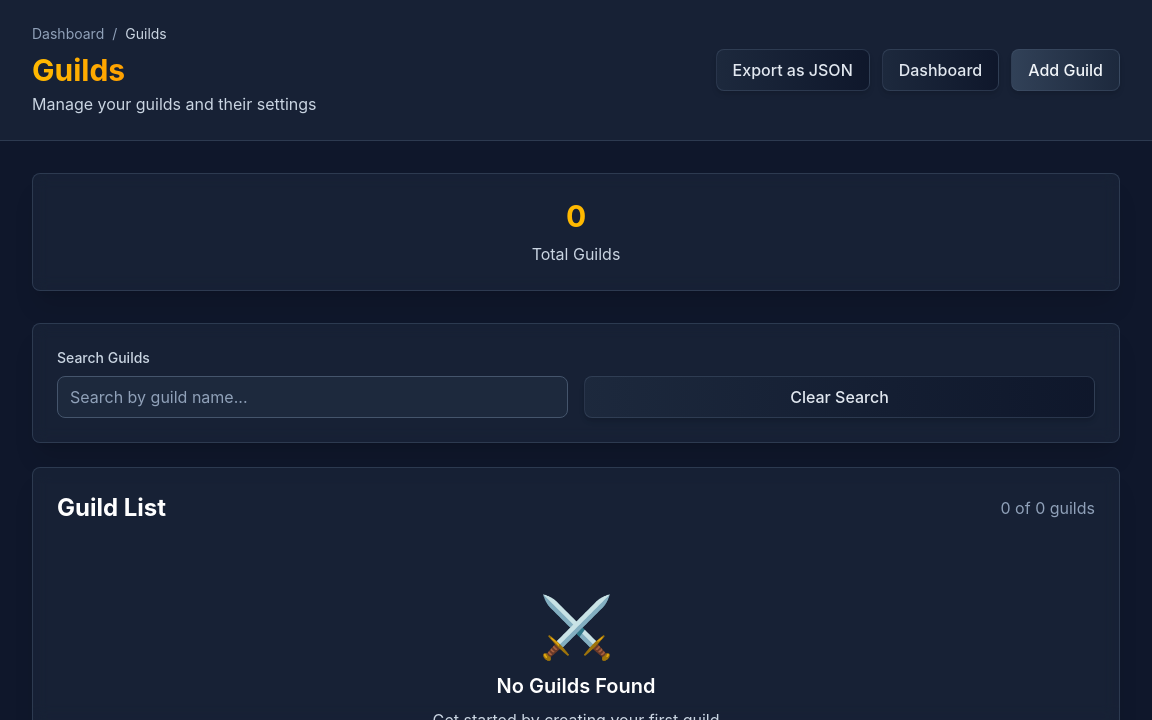
Test: Guilds Page › shows error in the form if createGuild fails
Click the button "Add Guild" at [1066, 70], box [1011,49,1120,91]
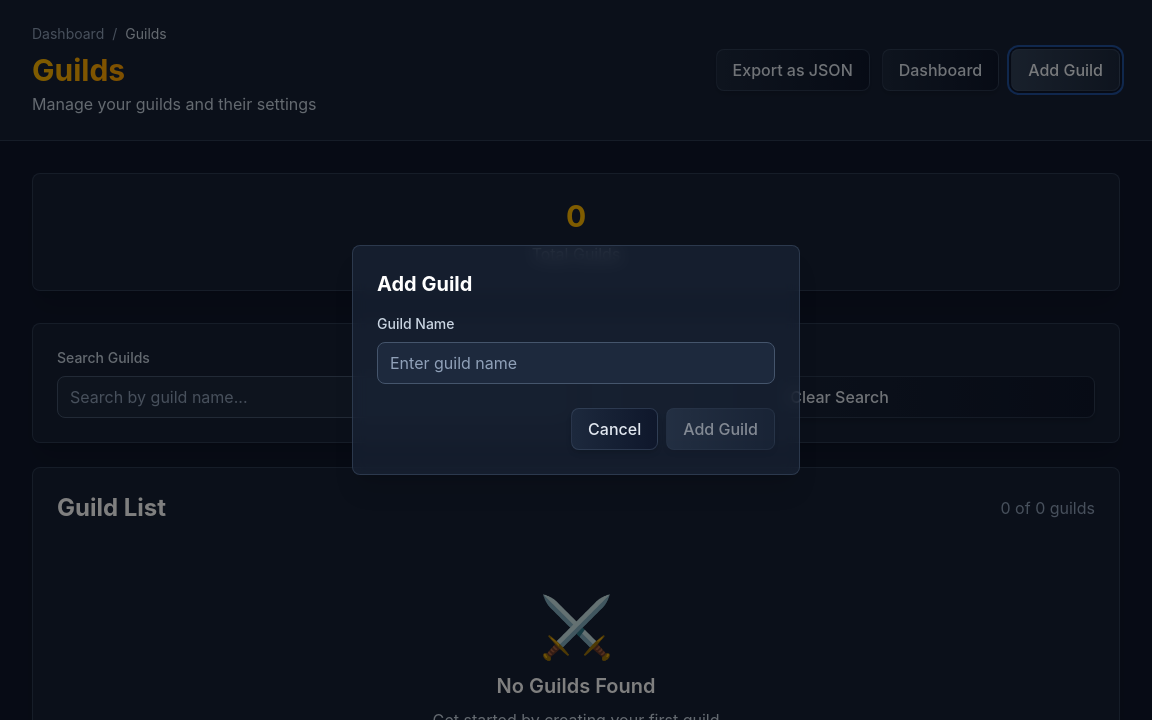
Now the element with test id "guild-form-modal" is shown
Type "Fail Guild" into the field with placeholder "Enter guild name" at [576, 363], box [377,342,775,384]
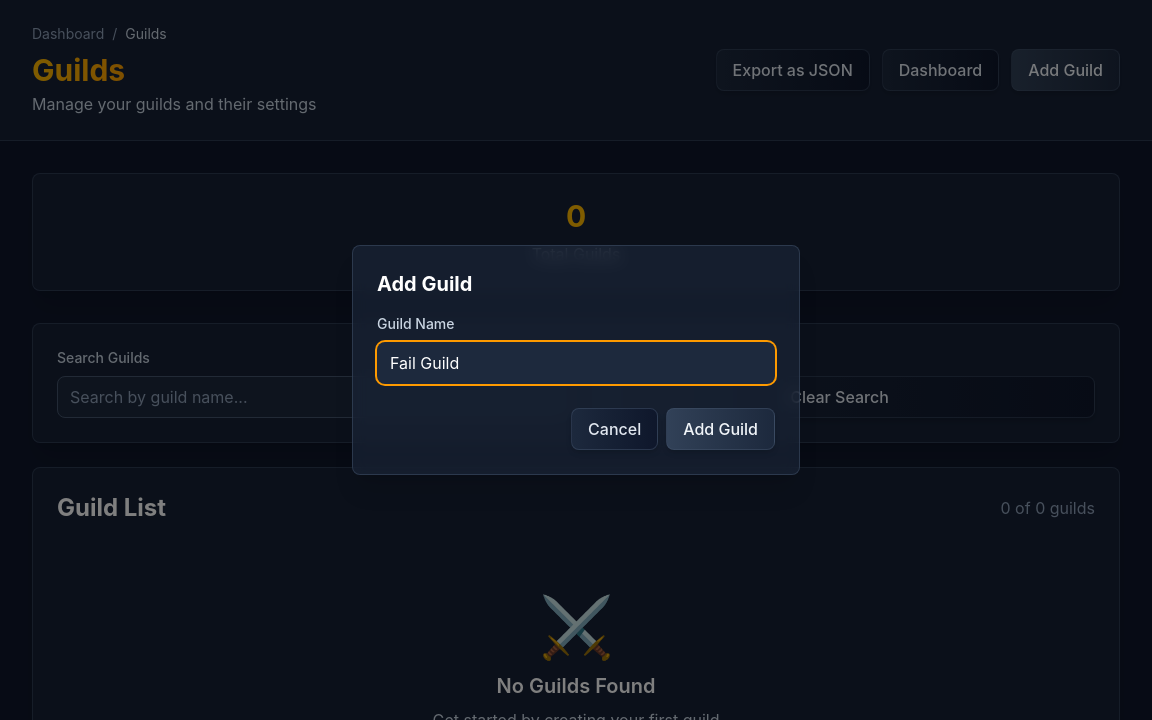
Now the button with test id "guild-form-submit" is enabled
Click the button with test id "guild-form-submit" at [721, 429], box [666,408,775,450]
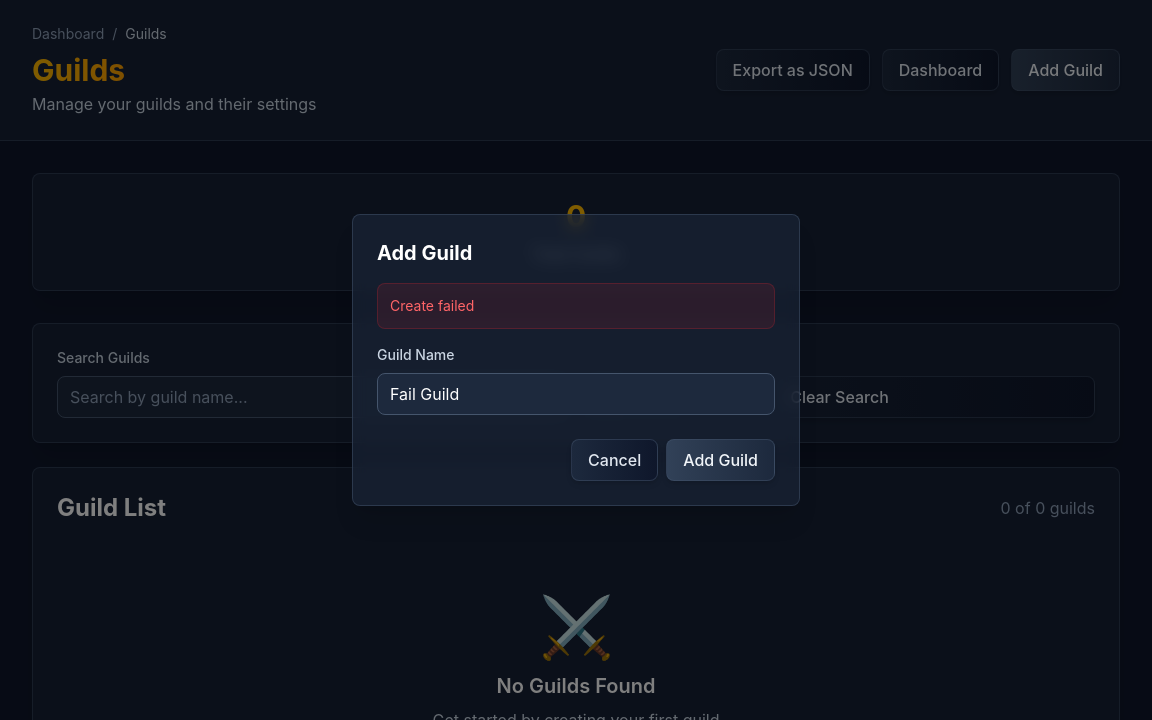
Now the text "Create failed" is shown, box [390,297,474,314]
